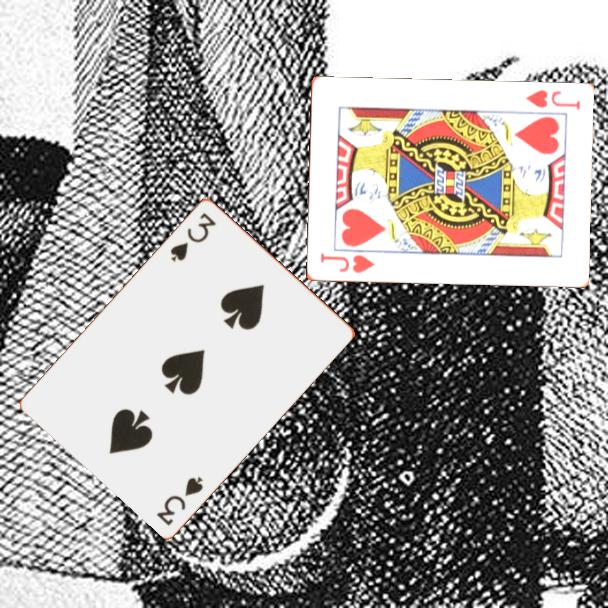h11: (317, 250, 377, 276), (522, 87, 582, 113)
s03: (153, 472, 206, 528), (167, 209, 219, 265)
